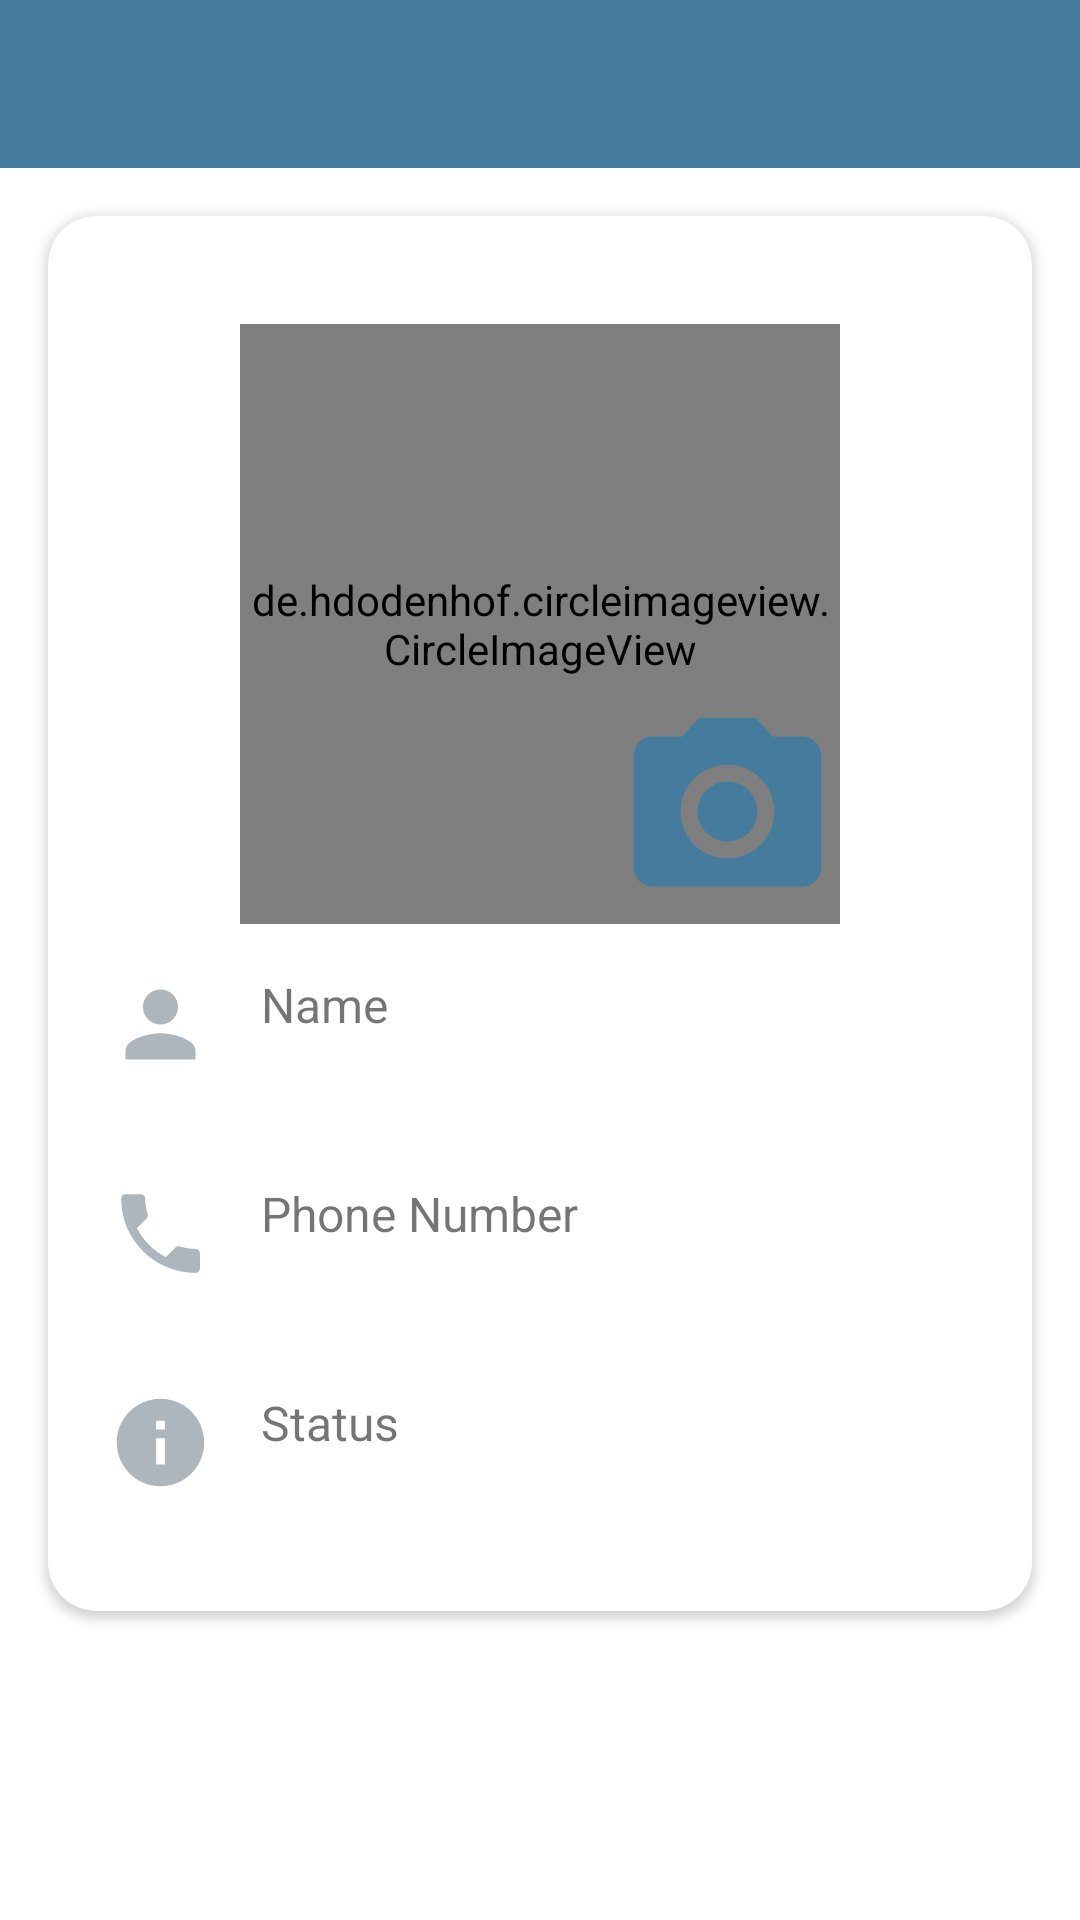

Screen size 1080x1920. Icon name, then its center in pixels as point (x, y):
camera: point (727, 802)
